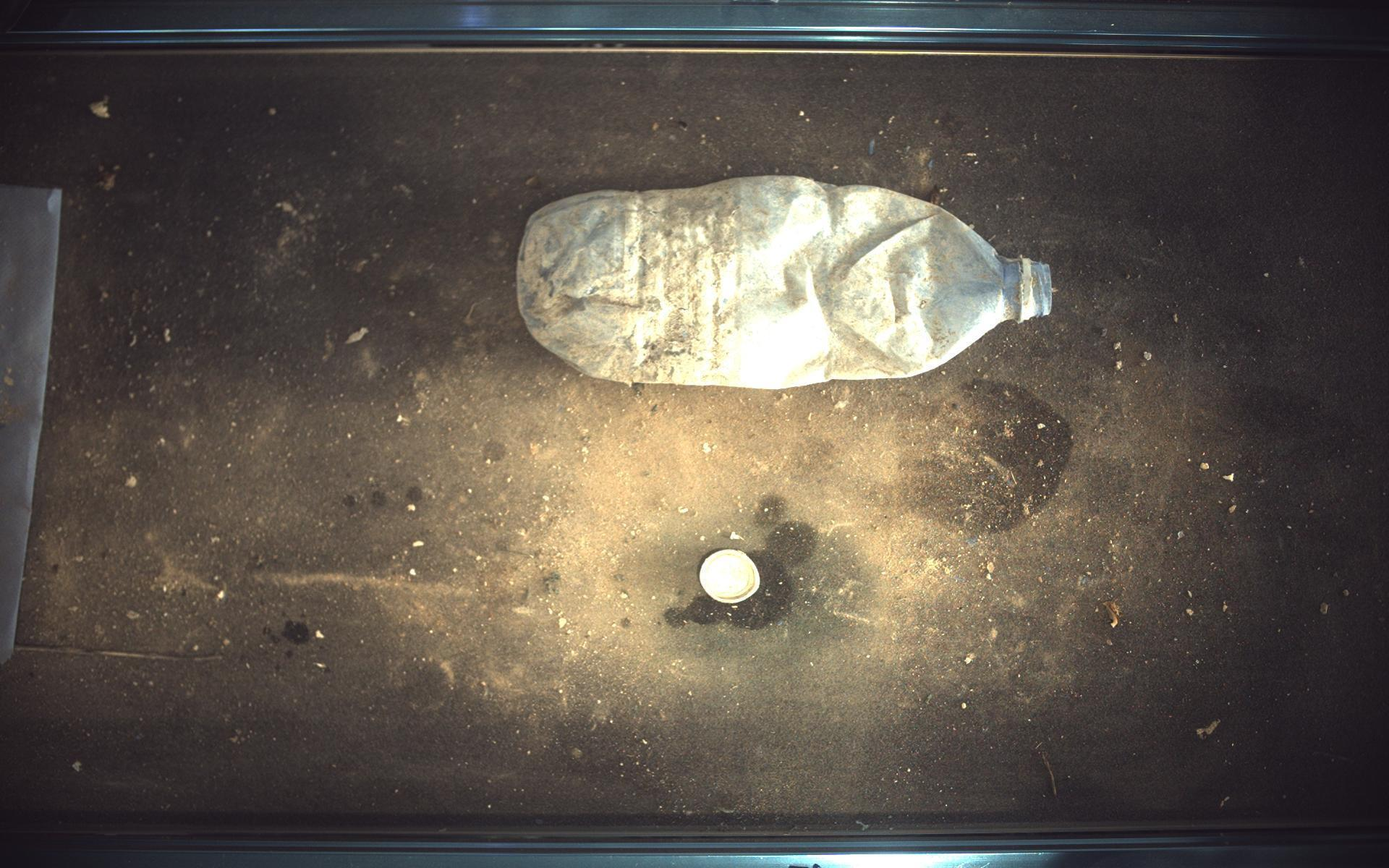general_w: (518, 176, 1054, 388), (700, 550, 762, 605)
